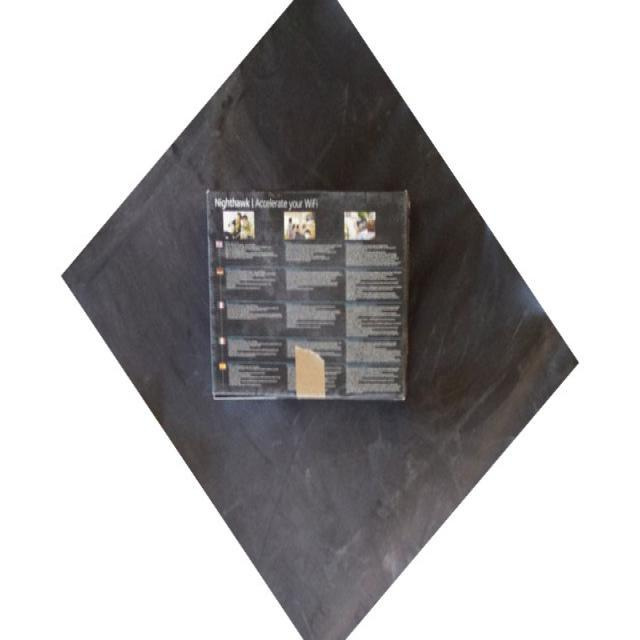Paper: (203, 189, 409, 399)
